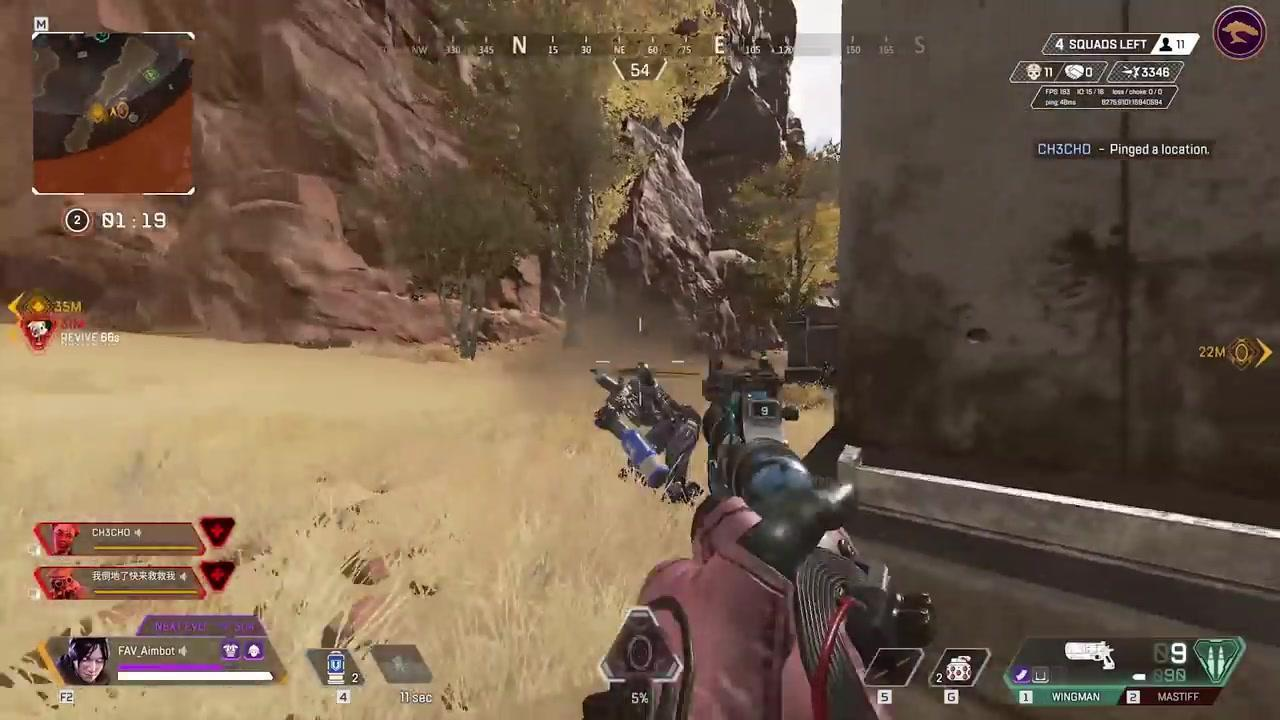avatar: (590, 365, 704, 505)
